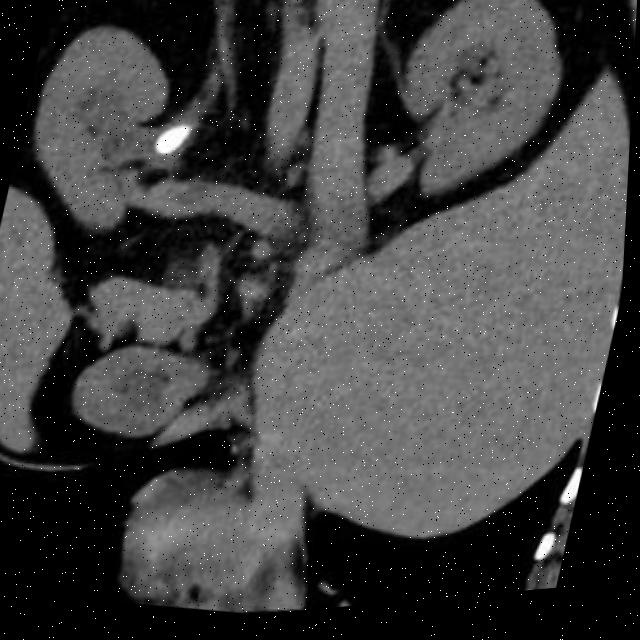Tas_Var: (149, 114, 206, 172)
